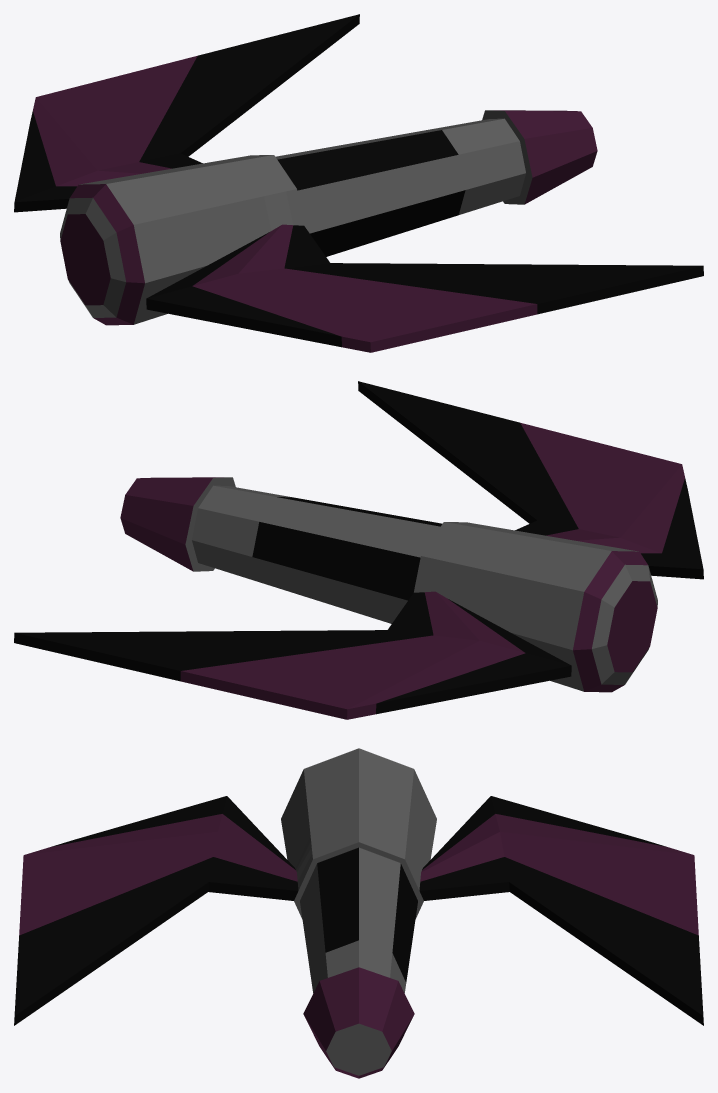
The model's file is player_plane_self.glb.
3 renders of one model, top to bottom at view 1: azimuth 30°, elevation 25°; view 2: azimuth 150°, elevation 25°; view 3: azimuth 270°, elevation 25°, orthographic.
Parts seen in each view (by area): view 1: Plane.002, Plane; view 2: Plane.002, Plane; view 3: Plane.002, Plane.
Boxes of the visible parts, x1,y1,x2,y2 form: Plane.002: [14, 14, 703, 352]; Plane: [60, 110, 597, 325]; Plane.002: [14, 381, 703, 719]; Plane: [120, 477, 657, 692]; Plane.002: [14, 796, 703, 1025]; Plane: [281, 748, 436, 1078].
Size of the model in its own units: 27.03 by 7.29 by 32.19.
